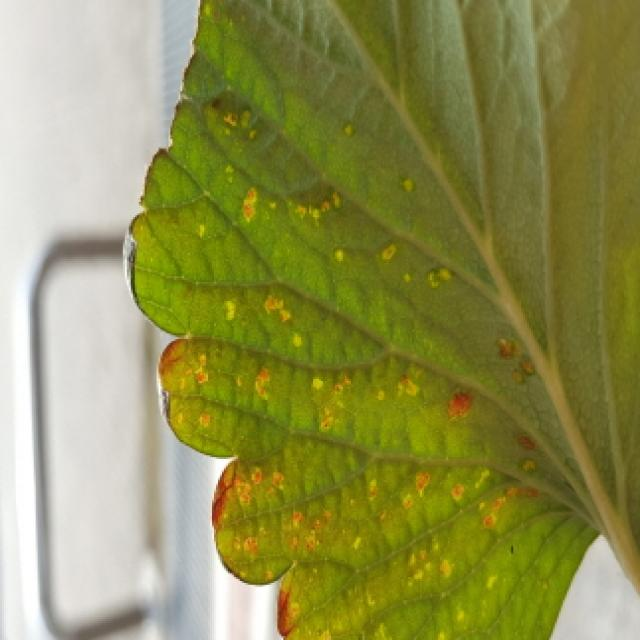Angular Leafspot: (128, 0, 578, 640)
